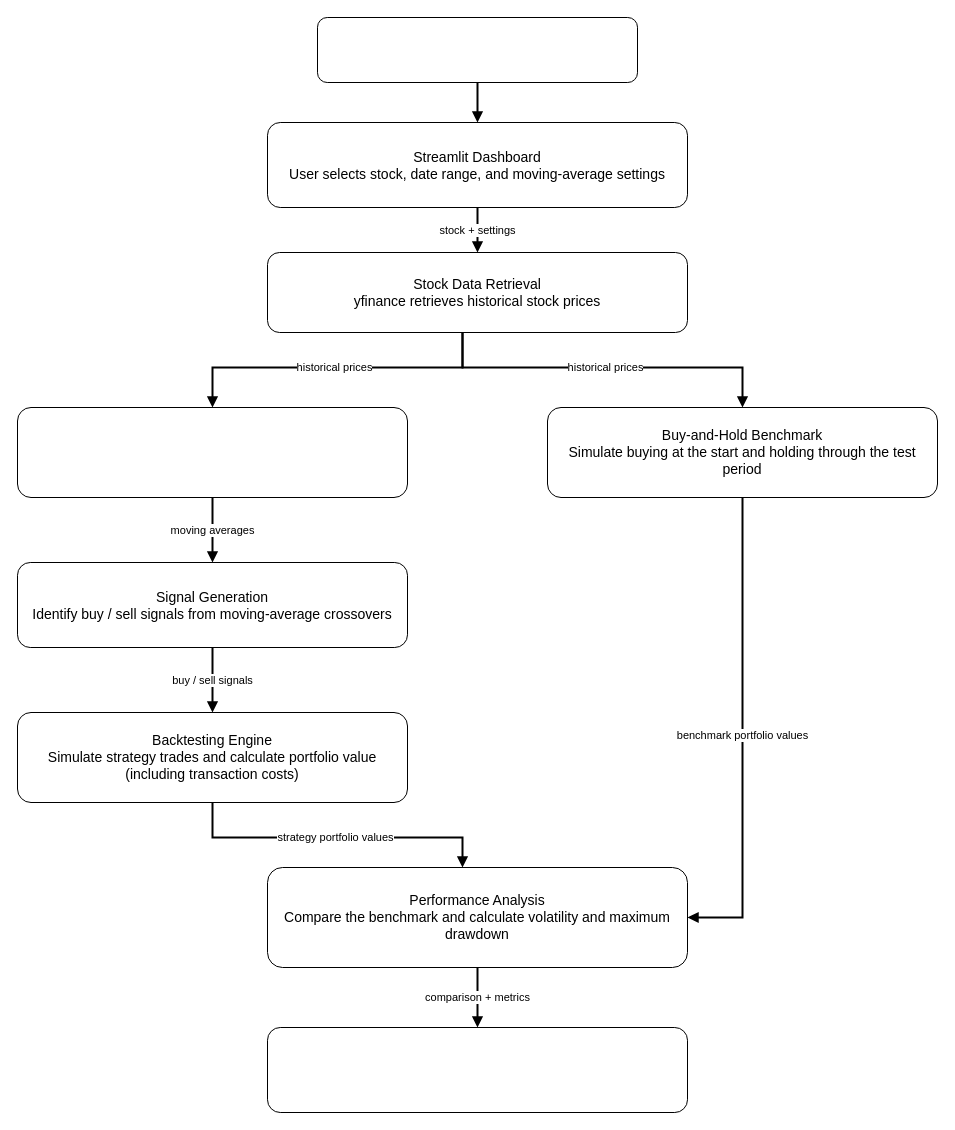
The diagram is 955 pixels wide and 1130 high, and some of its shapes have lost their labels. Here are the shapes that lost their labels. From the top down, the centre of each, then its label:
point (477, 49): START User opens StrategyLab
point (212, 452): Data Processing pandas / NumPy organize prices and calculate moving averages
point (477, 1069): Results Dashboard Plotly charts + performance metrics + educational explanations
